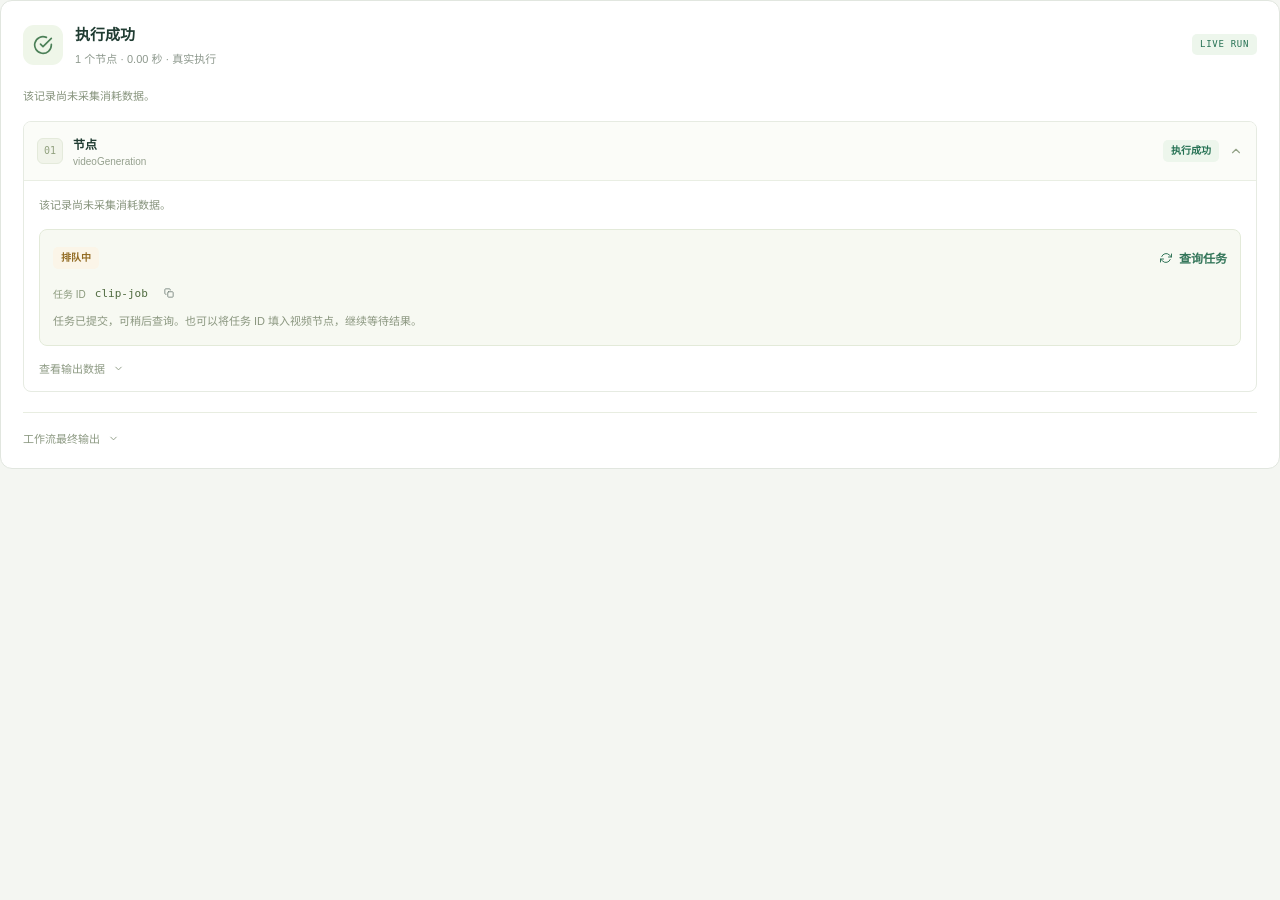
Test: an asynchronous clip becomes available only after its job returns completed media
The width and height of the screenshot is (1280, 900).
Expected: the button "发送到发布助手" is not shown
Click the button "查询任务".
click(1194, 258)  # box [1160,243,1227,272]
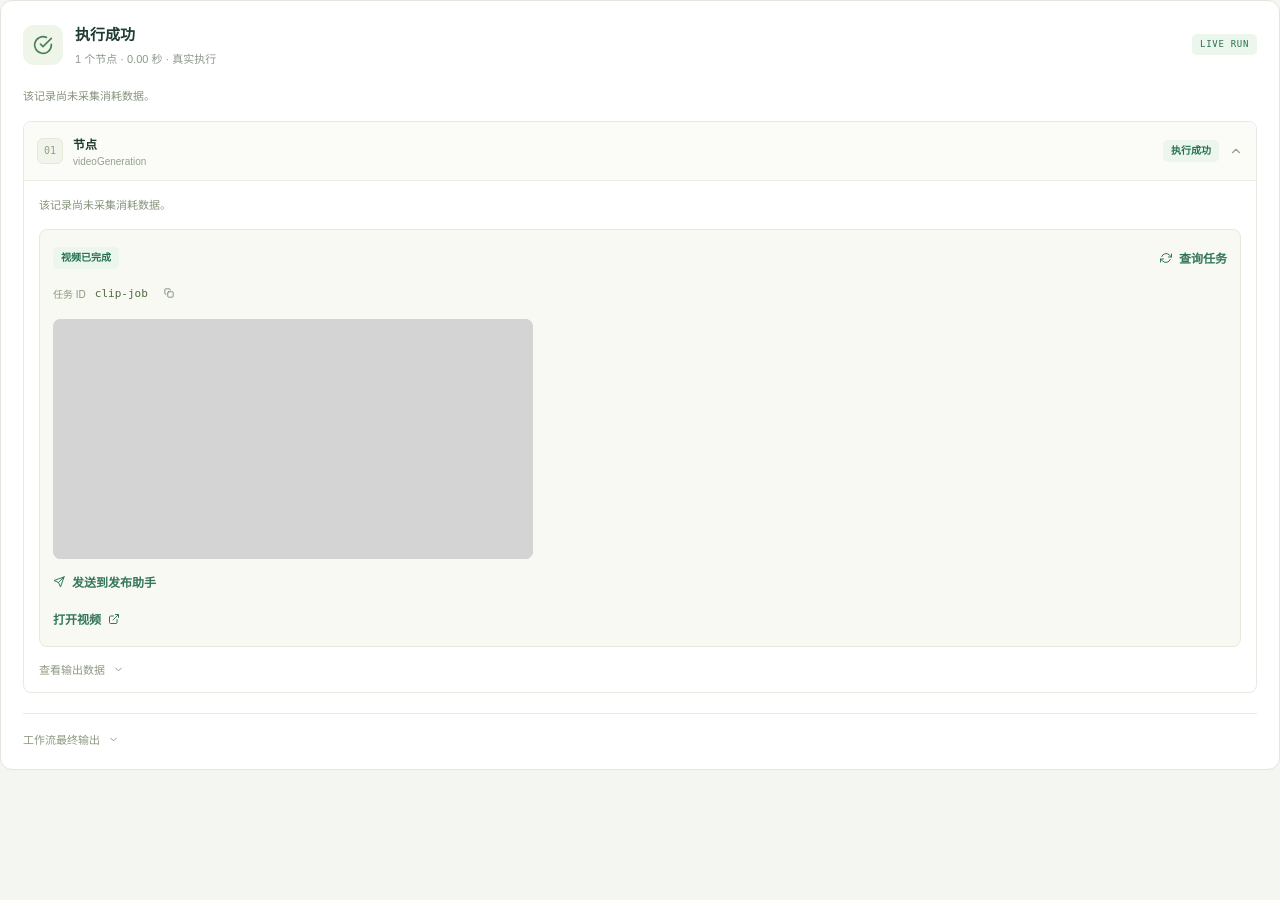
Click the button "发送到发布助手".
click(104, 582)  # box [53,567,156,596]
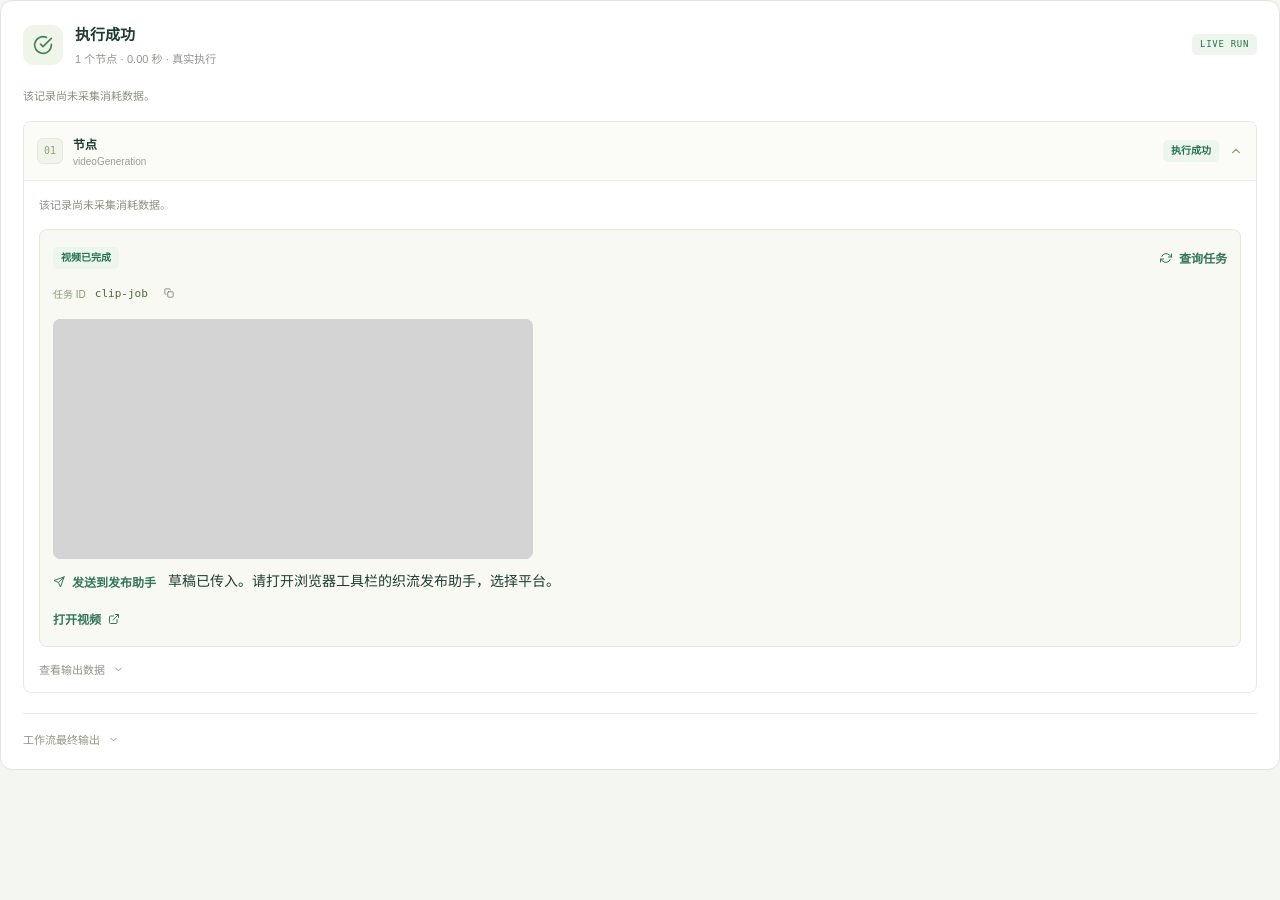
Result: the text "草稿已传入。请打开浏览器工具栏的织流发布助手，选择平台。" is shown at [168,571,560,592]
